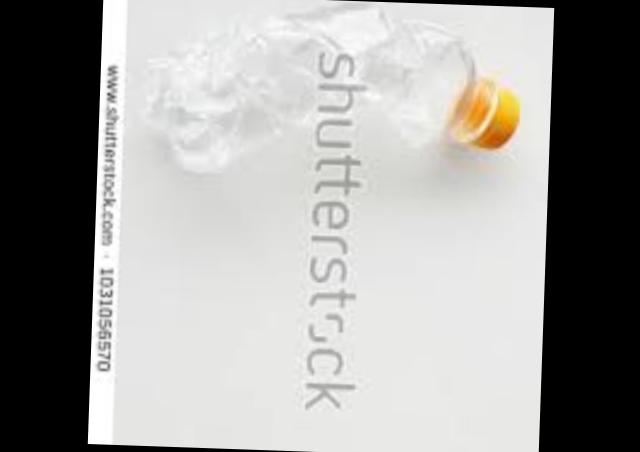plastic: (148, 3, 520, 168)
